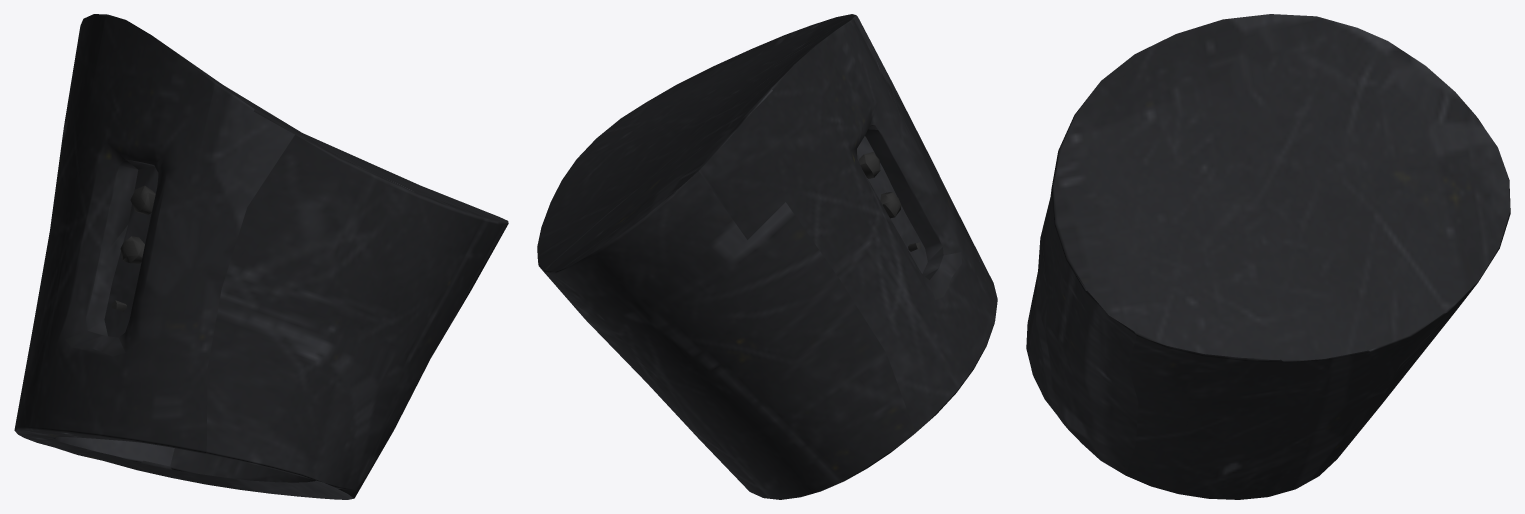
Rendered from sigismund_antebrazo_der.obj.
The picture shows the model from 3 angles, left to right: view 1: azimuth 30°, elevation 25°; view 2: azimuth 150°, elevation 25°; view 3: azimuth 270°, elevation 25°; orthographic projection. The views are drawn at different scales.
Parts seen in each view (by area): view 1: antebrazo_der; view 2: antebrazo_der; view 3: antebrazo_der.
Boxes of the visible parts, x1=… form: antebrazo_der: x1=14, y1=14, x2=508, y2=499; antebrazo_der: x1=537, y1=14, x2=997, y2=499; antebrazo_der: x1=1026, y1=14, x2=1510, y2=499.
Size of the model in its own units: 0.3825 by 0.4025 by 0.3978.
